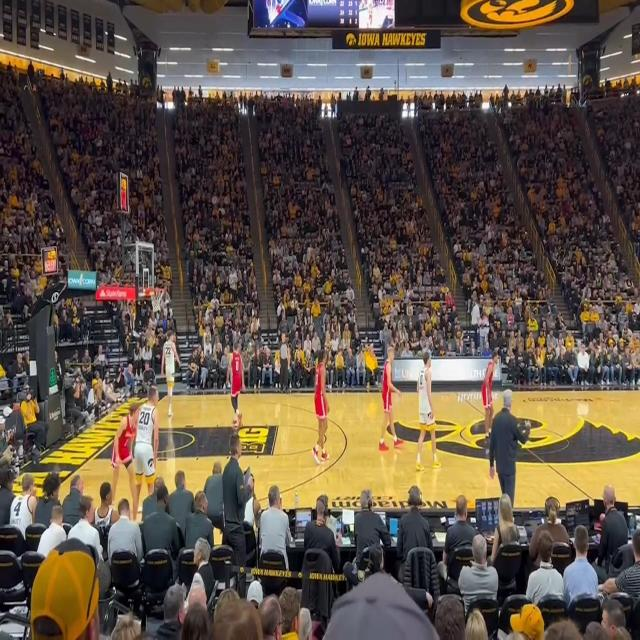Hoop: (150, 288, 166, 312)
Player: (108, 401, 143, 512), (132, 386, 159, 523), (415, 351, 442, 471), (378, 346, 404, 451), (312, 350, 330, 465), (161, 330, 181, 417), (226, 342, 245, 428), (482, 351, 498, 414)
Ref: (278, 332, 290, 393)
